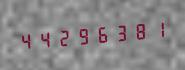eight: (131, 16, 149, 44)
four: (36, 24, 54, 53), (17, 26, 35, 54)
nine: (74, 21, 92, 49)
one: (150, 14, 168, 43)
six: (93, 19, 111, 48)
three: (112, 18, 130, 46)
two: (55, 23, 73, 51)
